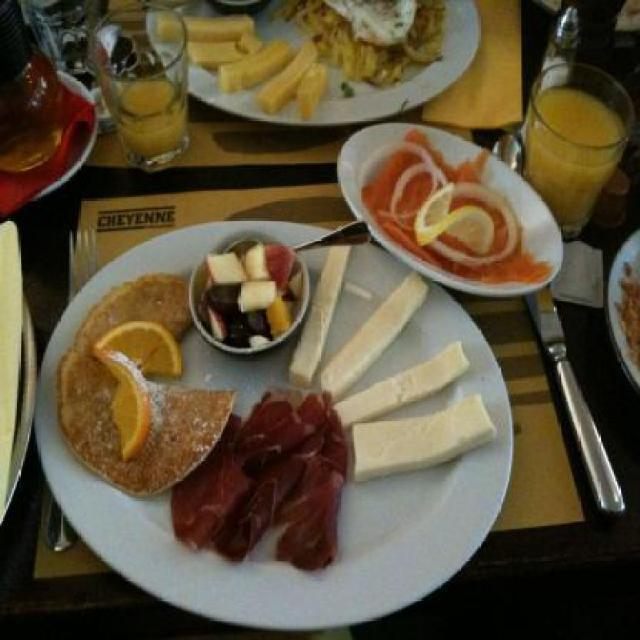Juice: (522, 72, 630, 238)
